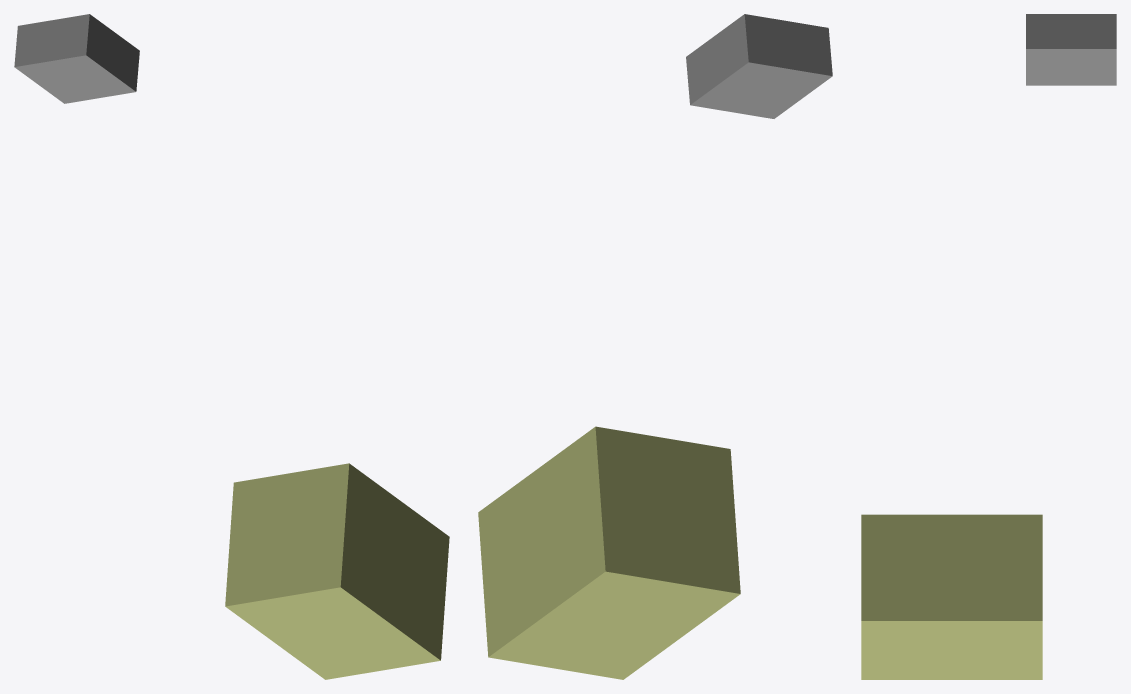
The picture shows the model from 3 angles, left to right: view 1: azimuth 30°, elevation 25°; view 2: azimuth 150°, elevation 25°; view 3: azimuth 270°, elevation 25°; orthographic projection. The views are drawn at different scales.
Parts seen in each view (by area): view 1: 0_1_3_2_1_1_2_2_1; view 2: 0_1_3_2_1_1_2_2_1; view 3: 0_1_3_2_1_1_2_2_1.
Part boxes in pixels (x1,y1,x2,y2): 0_1_3_2_1_1_2_2_1: (14,14,449,679); 0_1_3_2_1_1_2_2_1: (478,14,832,679); 0_1_3_2_1_1_2_2_1: (861,14,1116,679).
Bounding box in the file's own units: 10.15 × 19.8 × 8.45.
